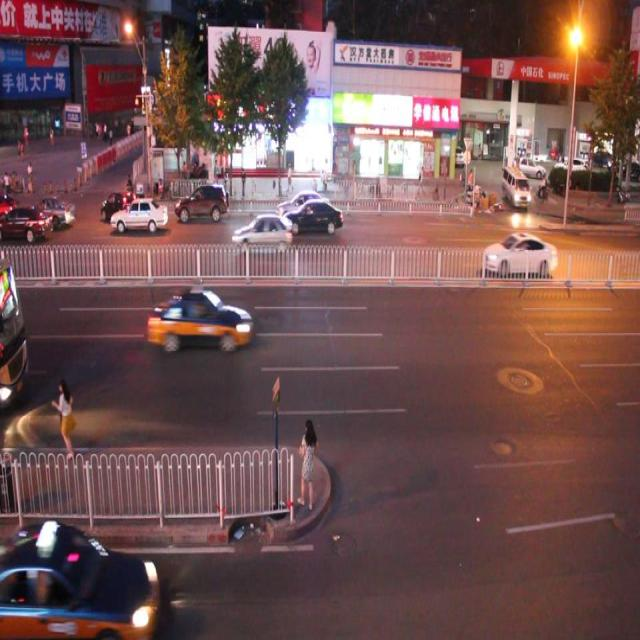car: (1, 520, 159, 640), (145, 286, 252, 353), (481, 230, 556, 276), (230, 212, 294, 253), (282, 194, 344, 235), (176, 179, 236, 220), (16, 188, 73, 228), (110, 193, 168, 232), (277, 184, 332, 223), (1, 203, 53, 243), (103, 185, 147, 225)
